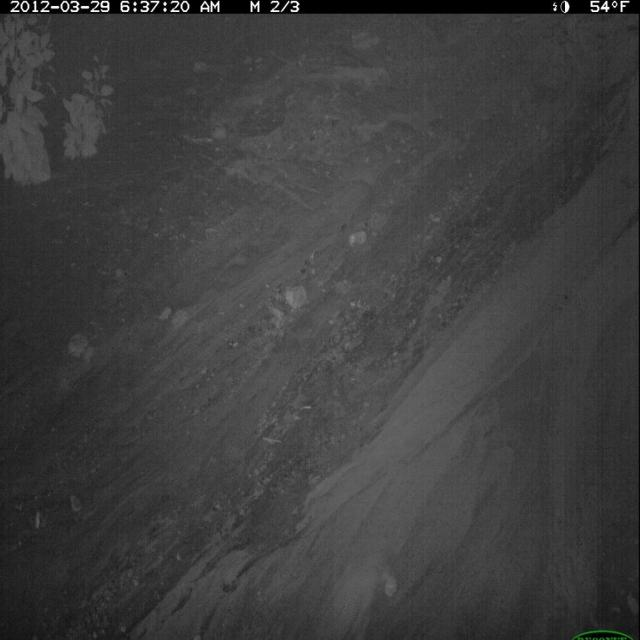bobcat: (325, 542, 400, 640)
